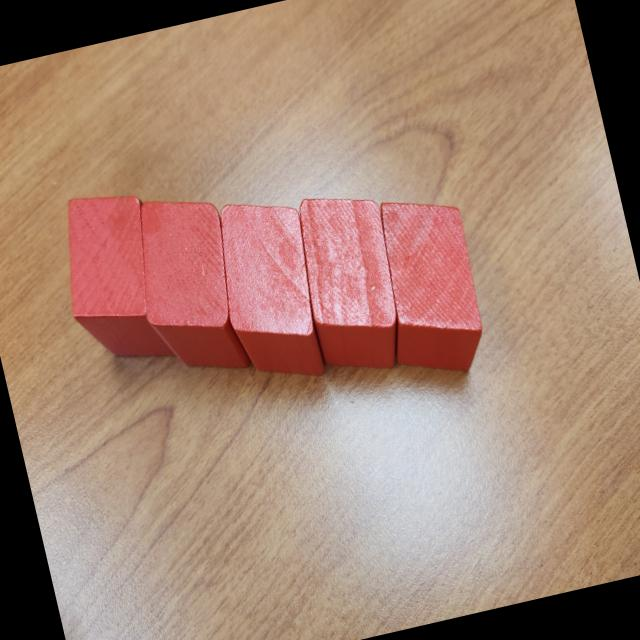red: (360, 185, 496, 387), (121, 185, 255, 388), (204, 189, 336, 394), (46, 182, 180, 376), (286, 184, 416, 382)
